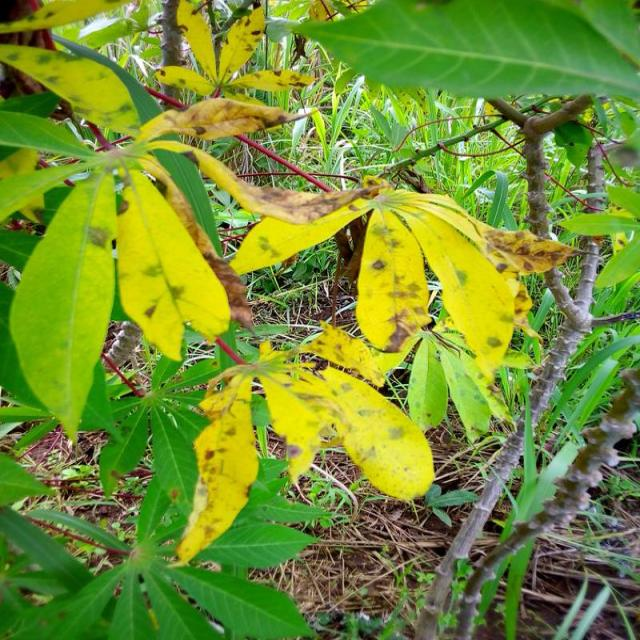cassava leaf: (269, 0, 640, 102), (10, 164, 120, 444), (116, 165, 233, 362)
